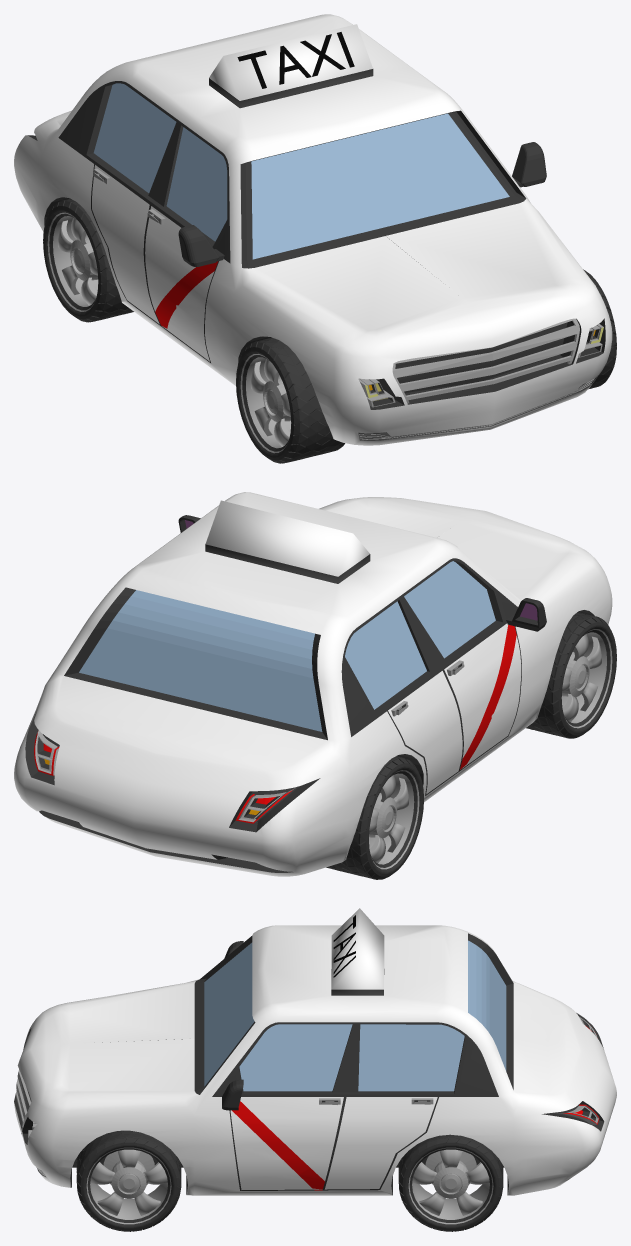
3 renders of one model, top to bottom at view 1: azimuth 30°, elevation 25°; view 2: azimuth 150°, elevation 25°; view 3: azimuth 270°, elevation 25°, orthographic. The views are drawn at different scales.
Parts seen in each view (by area): view 1: Cube, Text; view 2: Cube; view 3: Cube.
Part boxes in pixels (x1=…): Cube: x1=14, y1=14, x2=616, y2=463; Text: x1=237, y1=32, x2=354, y2=88; Cube: x1=14, y1=492, x2=616, y2=879; Cube: x1=14, y1=908, x2=616, y2=1231.
Size of the model in its own units: 3.16 by 5.49 by 2.35.
